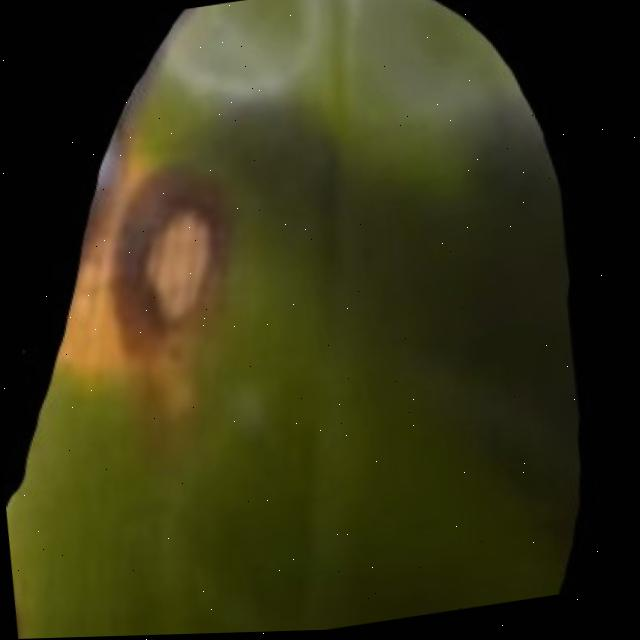mite: (98, 156, 248, 366), (12, 541, 26, 639), (166, 334, 196, 368)
